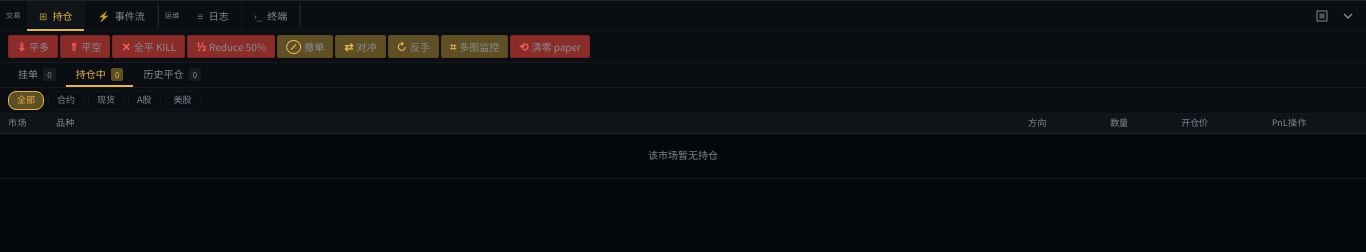
Test: 异动待批条 — 只在有料/出错时现身 › 密码货币-only 部署(wired=false)→ 整块不出现
Click the button with class "dtab" showing "⚡ 事件流": (122, 16) [85,1,158,30]
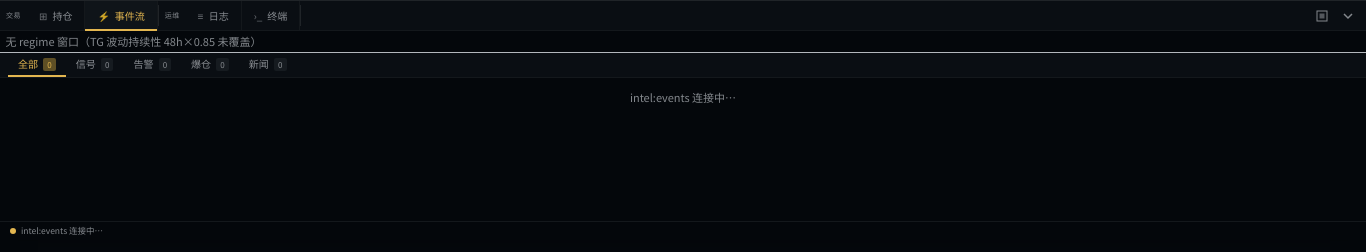
Now the element with class "event-subtabs" is shown, box [0,53,1365,78]
